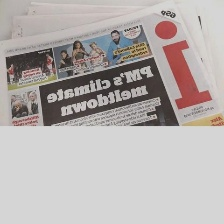news_paper: (0, 0, 222, 125)
